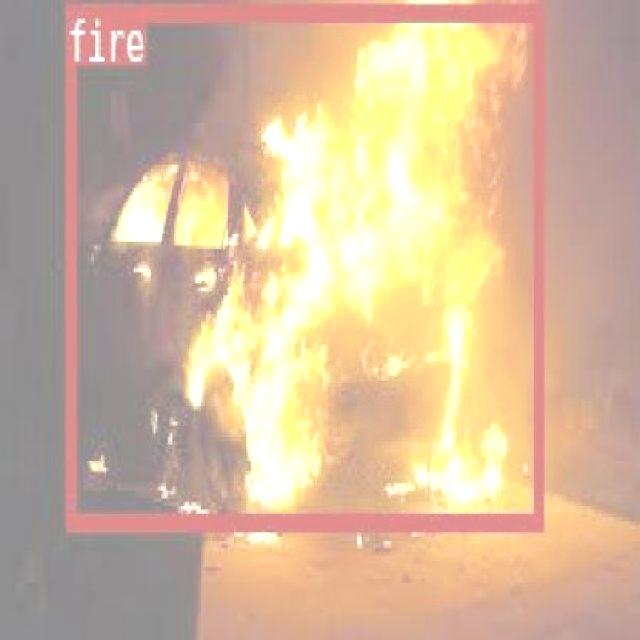fire: (64, 3, 542, 528)
